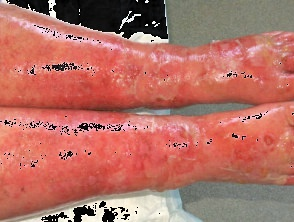SJS-TEN: (0, 7, 289, 126), (0, 101, 294, 200)
